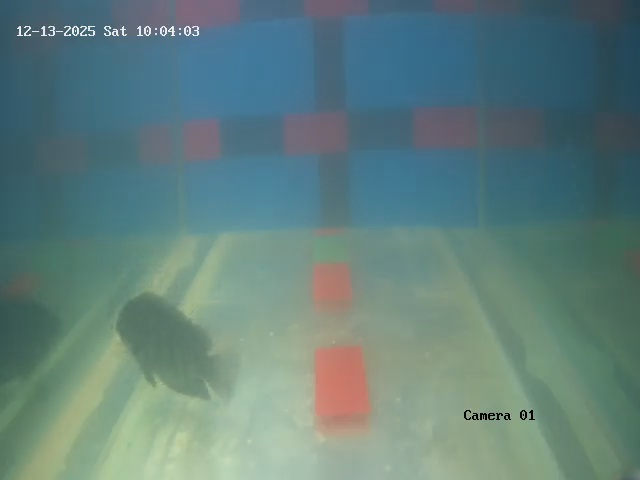fish: (113, 292, 215, 398)
